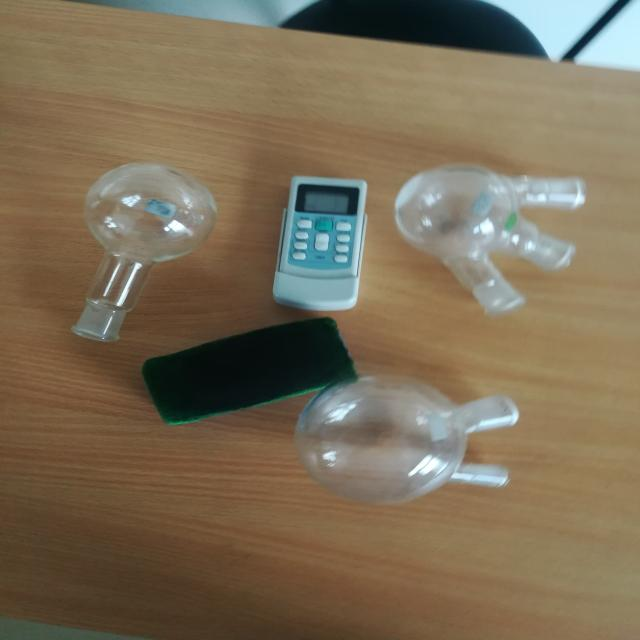Round_Bottom_Flask_Borosilicate_Glass_1_Neck: (41, 124, 248, 374)
Round_Bottom_Flask_Borosilicate_Glass_2_Neck: (282, 367, 573, 530)
Round_Bottom_Flask_Borosilicate_Glass_3_Neck: (374, 126, 620, 353)
